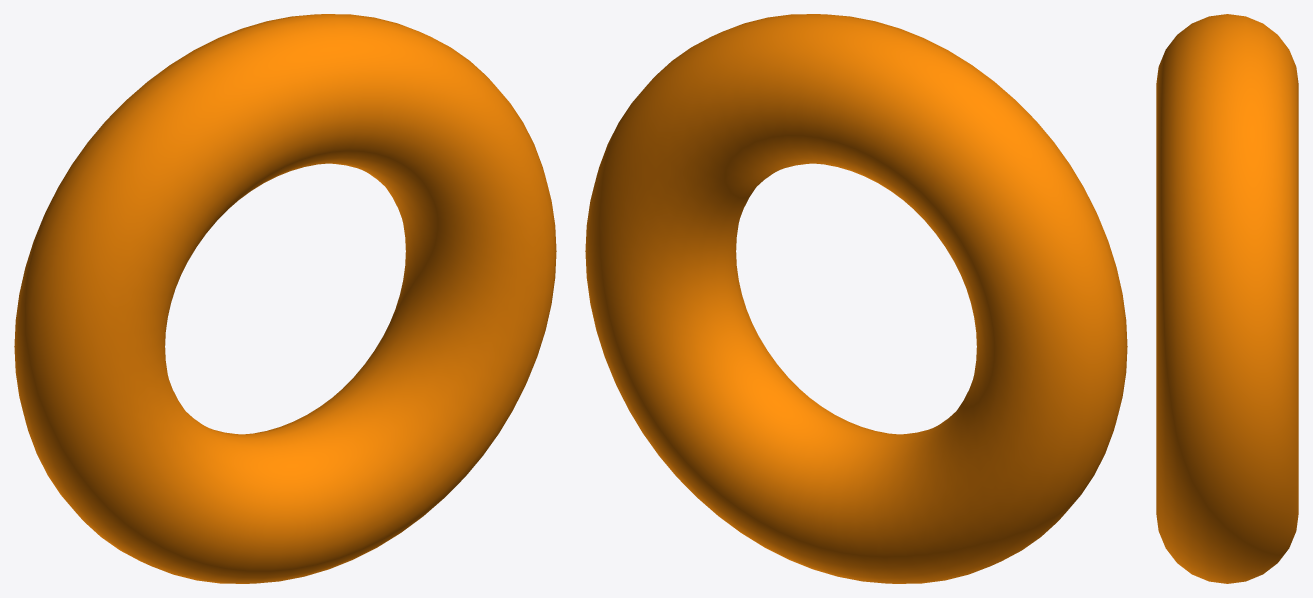
The model's file is EV_Ring.obj.
3 renders of one model, left to right at view 1: azimuth 30°, elevation 25°; view 2: azimuth 150°, elevation 25°; view 3: azimuth 270°, elevation 25°, orthographic. The views are drawn at different scales.
Visible parts, largest first — view 1: EV_Ring; view 2: EV_Ring; view 3: EV_Ring.
Part boxes in pixels (left/top/right/bottom): EV_Ring: left=14, top=14, right=556, bottom=583; EV_Ring: left=585, top=14, right=1127, bottom=583; EV_Ring: left=1156, top=14, right=1298, bottom=583.
Size of the model in its own units: 2.4 by 2.4 by 0.6.
